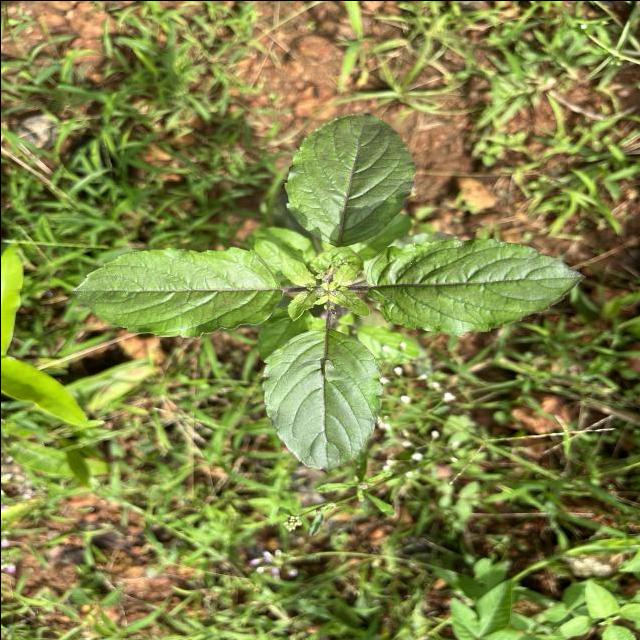Ocimum tenuiflorum: (360, 235, 588, 336), (70, 245, 282, 339), (284, 110, 418, 245), (260, 326, 384, 470)
